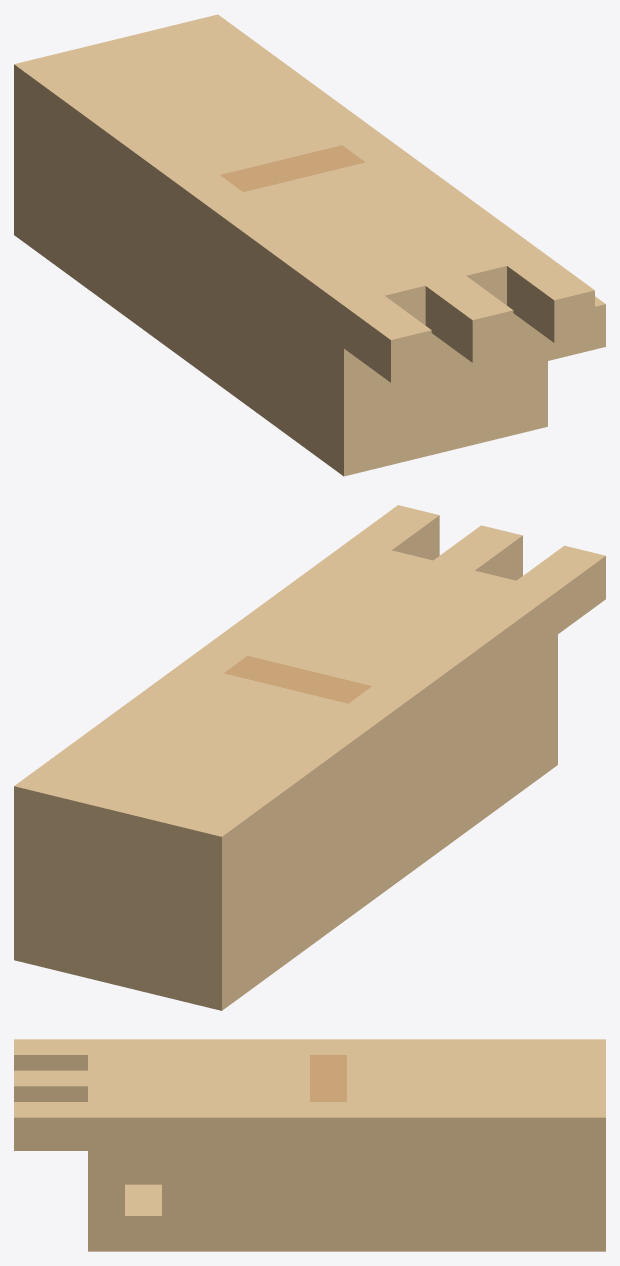
Rendered from Kompot-3.obj.
3 views of the same model, one above another, from view 1: azimuth 30°, elevation 25°; view 2: azimuth 150°, elevation 25°; view 3: azimuth 270°, elevation 25° (orthographic). The views are drawn at different scales.
Bounding box in the file's own units: 0.7 × 0.4 × 1.6.
Materials: 1 (1 with a texture image).
